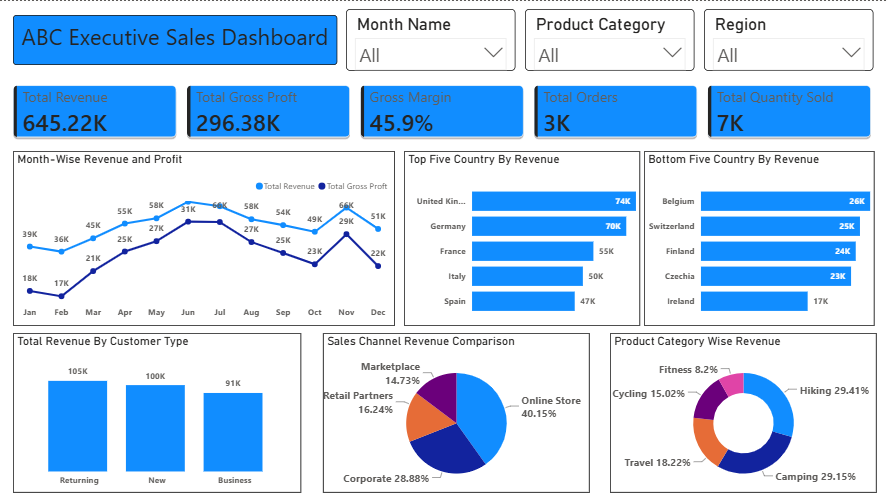

What the dashboard file says about the page in this screenshot:
{"tool":"powerbi","page":{"name":"Page 1","canvas":[1280,720],"ordinal":0},"visuals":[{"type":"cardVisual","fields":{"Data":["All_Measures.Total Revenue","All_Measures.Total Gross Proft","All_Measures.Gross Margin","All_Measures.Total Orders","All_Measures.Total Quantity Sold"]},"box":[0,100.8,1280.2,116.6],"z":0},{"type":"textbox","box":[20.2,20.2,466.6,72],"z":1000},{"type":"slicer","fields":{"Values":["Data_table.Month Name"]},"box":[499.7,11.5,244.4,89.3],"z":2000},{"type":"slicer","fields":{"Values":["Sales_data.Product Category"]},"box":[757.6,11.5,244.4,89.3],"z":3000},{"type":"slicer","fields":{"Values":["Sales_data.Region"]},"box":[1015.6,11.5,244.4,89.3],"z":4000},{"type":"lineChart","title":"Month-Wise Revenue and Profit","fields":{"Category":["Data_table.Month Name"],"Y":["All_Measures.Total Revenue"],"Y2":["All_Measures.Total Gross Proft"]},"box":[20,216.7,550,251.7],"z":5000},{"type":"clusteredBarChart","title":"Top Five Country By Revenue","fields":{"Y":["All_Measures.Total Revenue"],"Category":["Sales_data.Country"]},"box":[583.3,216.7,340,251.7],"z":6000},{"type":"clusteredBarChart","title":"Bottom Five  Country By Revenue","fields":{"Y":["All_Measures.Total Revenue"],"Category":["Sales_data.Country"]},"box":[928.3,216.7,331.7,251.7],"z":7000},{"type":"pieChart","title":"Sales Channel Revenue Comparison","fields":{"Y":["All_Measures.Total Revenue"],"Category":["Sales_data.Sales Channel"]},"box":[466.6,478.1,384.4,230],"z":8000},{"type":"donutChart","title":"Product Category Wise  Revenue","fields":{"Category":["Sales_data.Product Category"],"Y":["All_Measures.Total Revenue"]},"box":[879.8,478.1,384.4,230],"z":9000},{"type":"columnChart","title":"Total Revenue By Customer Type","fields":{"Category":["Sales_data.Customer Type"],"Y":["All_Measures.Total Revenue"]},"box":[20.2,478.1,414.7,230.4],"z":10000}]}

Visuals, with their boxes in screenshot pixels (x1, y1, x2, y2), scaled from the page's 1280x720 canvas onto the 887x500 screenshot:
cardVisual - All_Measures.Total Revenue x All_Measures.Total Gross Proft: region(0, 70, 886, 151)
textbox: region(14, 14, 337, 64)
slicer - Data_table.Month Name: region(346, 8, 516, 70)
slicer - Sales_data.Product Category: region(525, 8, 694, 70)
slicer - Sales_data.Region: region(704, 8, 873, 70)
"Month-Wise Revenue and Profit" lineChart: region(14, 150, 395, 325)
"Top Five Country By Revenue" clusteredBarChart: region(404, 150, 640, 325)
"Bottom Five  Country By Revenue" clusteredBarChart: region(643, 150, 873, 325)
"Sales Channel Revenue Comparison" pieChart: region(323, 332, 590, 492)
"Product Category Wise  Revenue" donutChart: region(610, 332, 876, 492)
"Total Revenue By Customer Type" columnChart: region(14, 332, 301, 492)
